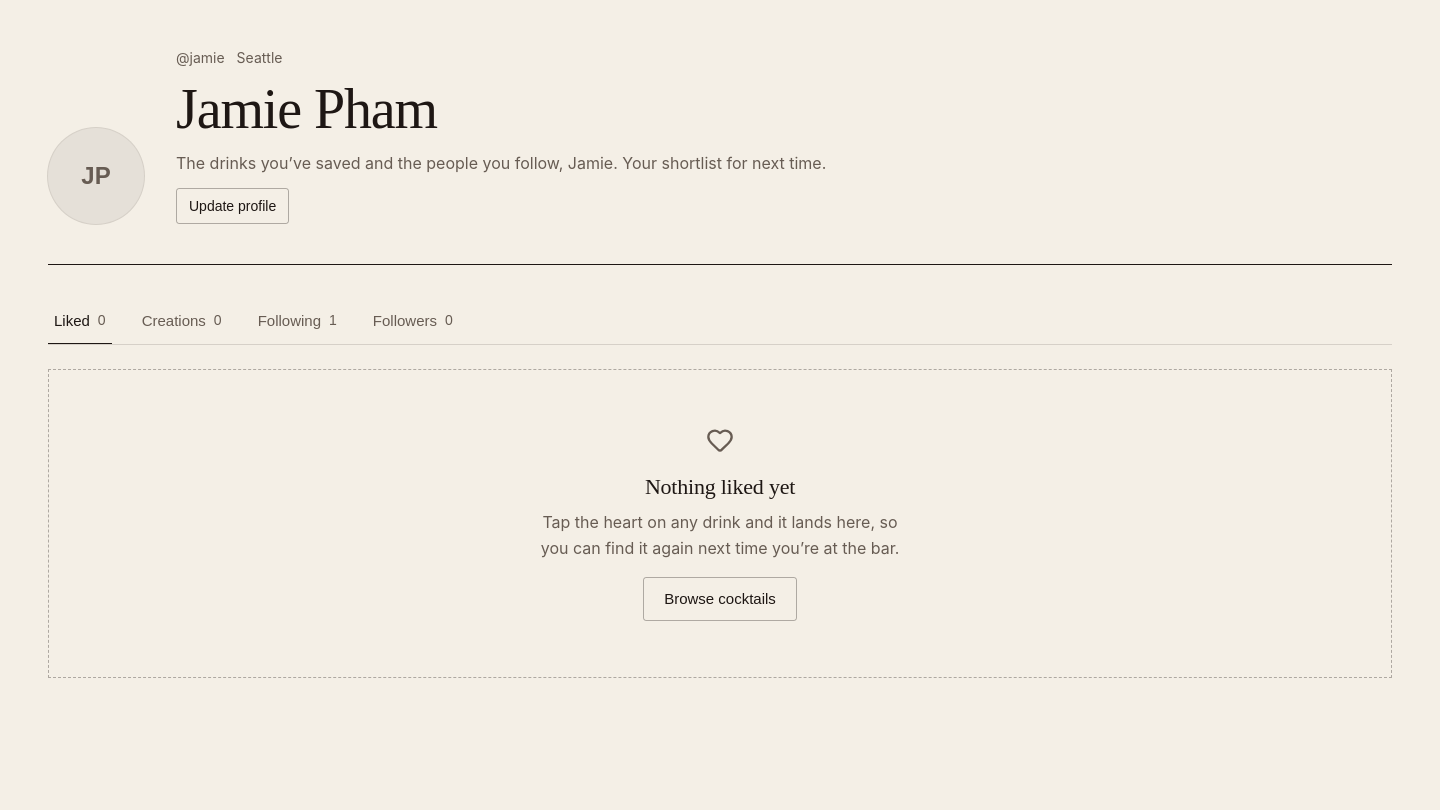
Profile — Following/Followers tabs › renders the Following tab from the nested followee identity, with no network request made
Click the tab "Following 1": point(297, 321) [252,297,343,345]
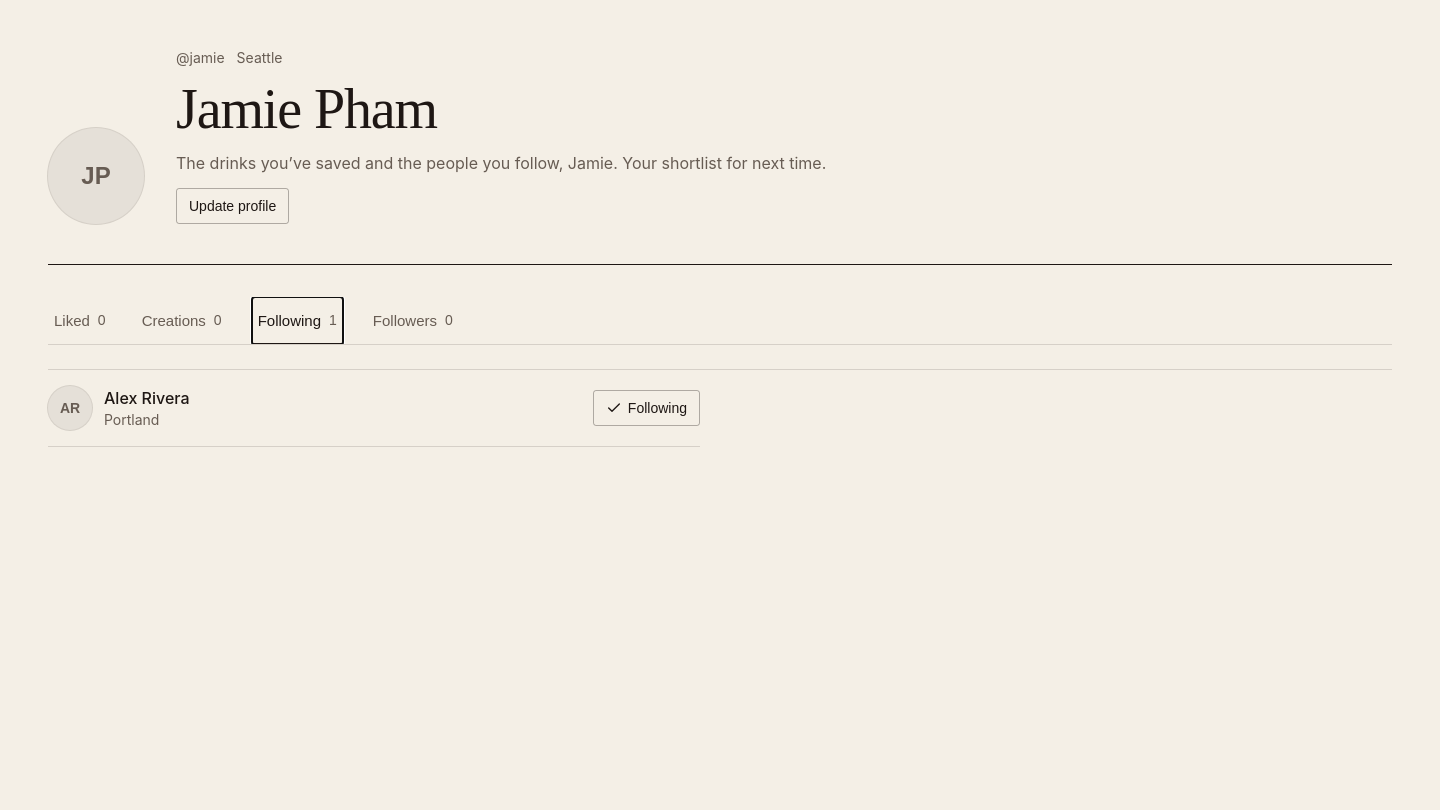
Check: the text "Alex Rivera" is shown, box [104,386,190,410]
